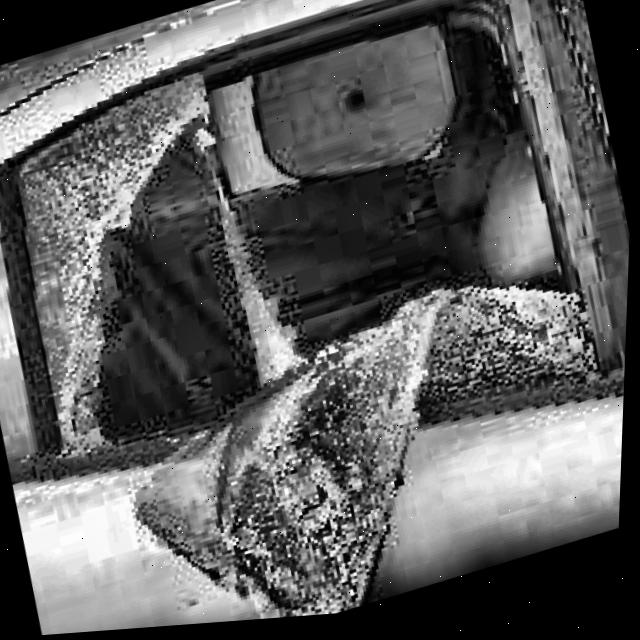glass_shatter: (23, 0, 575, 489)
